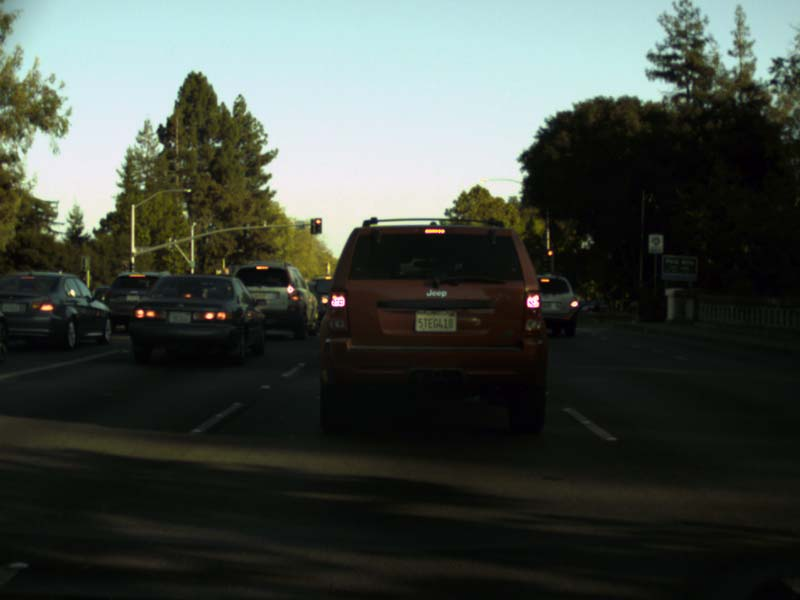Red: (545, 248, 555, 266), (314, 218, 321, 232)
